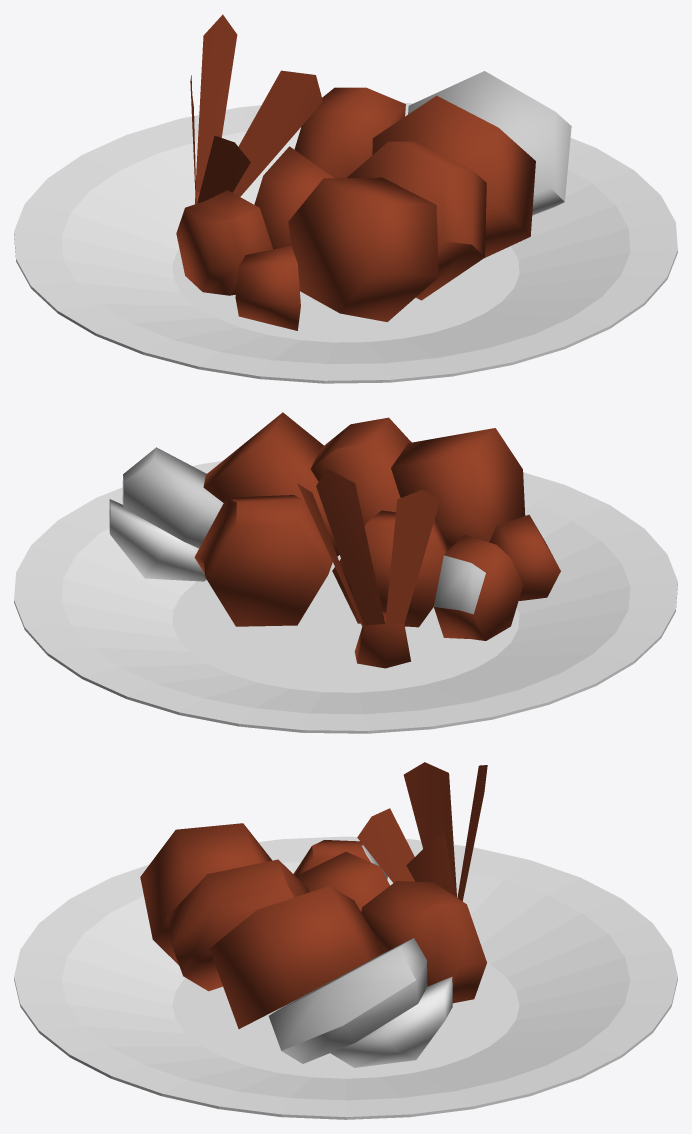
Rendered from slicedShrimp.fbx.
The picture shows the model from 3 angles, top to bottom: view 1: azimuth 30°, elevation 25°; view 2: azimuth 150°, elevation 25°; view 3: azimuth 270°, elevation 25°; orthographic projection.
Parts seen in each view (by area): view 1: 실린더, Shrimp; view 2: 실린더, Shrimp; view 3: 실린더, Shrimp.
Part boxes in pixels (x1=…): 실린더: x1=14, y1=102, x2=677, y2=383; Shrimp: x1=176, y1=14, x2=571, y2=330; 실린더: x1=14, y1=460, x2=677, y2=733; Shrimp: x1=109, y1=412, x2=560, y2=668; 실린더: x1=14, y1=836, x2=677, y2=1119; Shrimp: x1=140, y1=762, x2=487, y2=1067.
Size of the model in its own units: 19.13 by 6.92 by 19.13.
